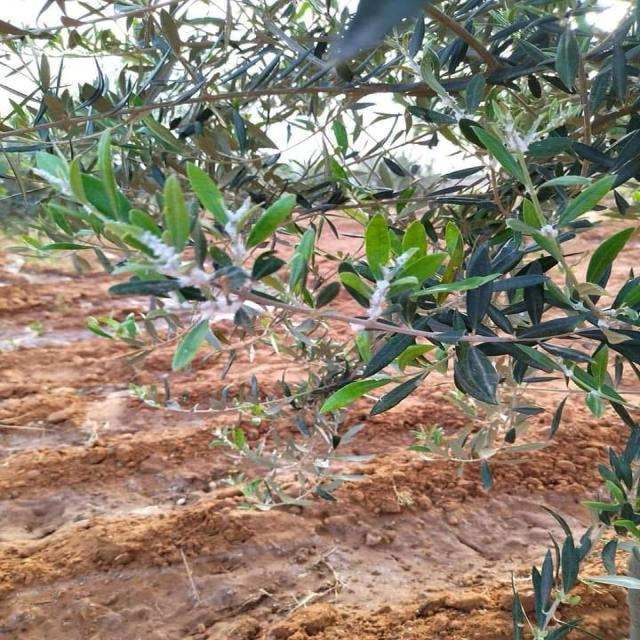Psyllid: (140, 232, 212, 286), (491, 106, 534, 149), (200, 294, 244, 324), (369, 276, 386, 318), (540, 224, 558, 238), (597, 321, 609, 328)
